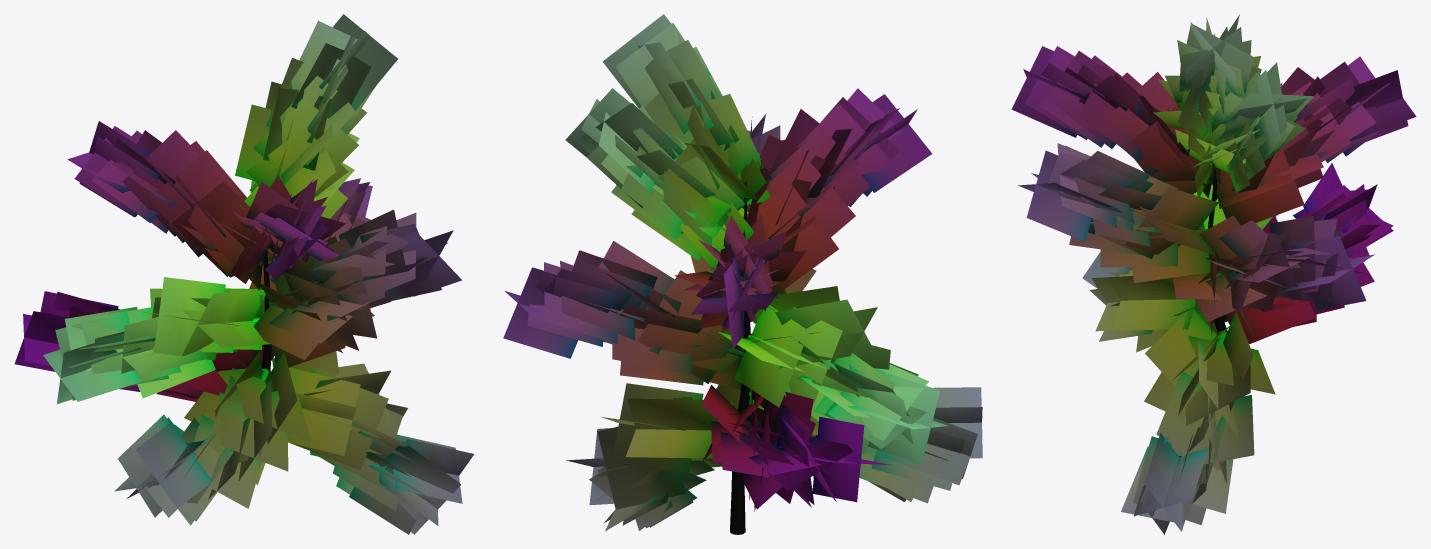
File: URP_P6_Tree_10_LOD_2.fbx
The picture shows the model from 3 angles, left to right: view 1: azimuth 30°, elevation 25°; view 2: azimuth 150°, elevation 25°; view 3: azimuth 270°, elevation 25°; orthographic projection. The views are drawn at different scales.
Visible parts, largest first — view 1: Tree_10_LOD_2; view 2: Tree_10_LOD_2; view 3: Tree_10_LOD_2.
Part boxes in pixels (x1,y1,x2,y2): Tree_10_LOD_2: [14, 14, 474, 534]; Tree_10_LOD_2: [503, 14, 982, 534]; Tree_10_LOD_2: [1011, 14, 1416, 534].
Bounding box in the file's own units: 893 × 1155 × 855.
